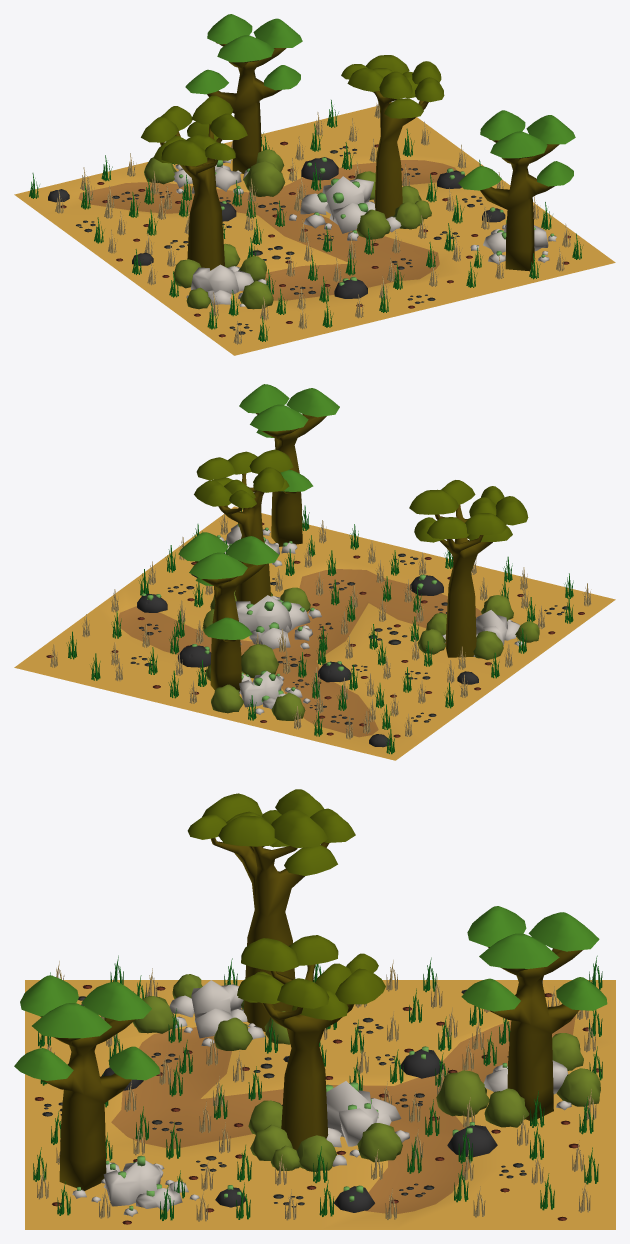
Rendered from savanna.glb.
The picture shows the model from 3 angles, top to bottom: view 1: azimuth 30°, elevation 25°; view 2: azimuth 150°, elevation 25°; view 3: azimuth 270°, elevation 25°; orthographic projection. The views are drawn at different scales.
Visible parts, largest first — view 1: SavannaGrass_Tile1x1; view 2: SavannaGrass_Tile1x1; view 3: SavannaGrass_Tile1x1.
Part boxes in pixels (x1,y1,x2,y2): SavannaGrass_Tile1x1: (14, 14, 615, 355); SavannaGrass_Tile1x1: (14, 384, 615, 760); SavannaGrass_Tile1x1: (14, 789, 615, 1229).
Size of the model in its own units: 4 by 1.8 by 4.08.
